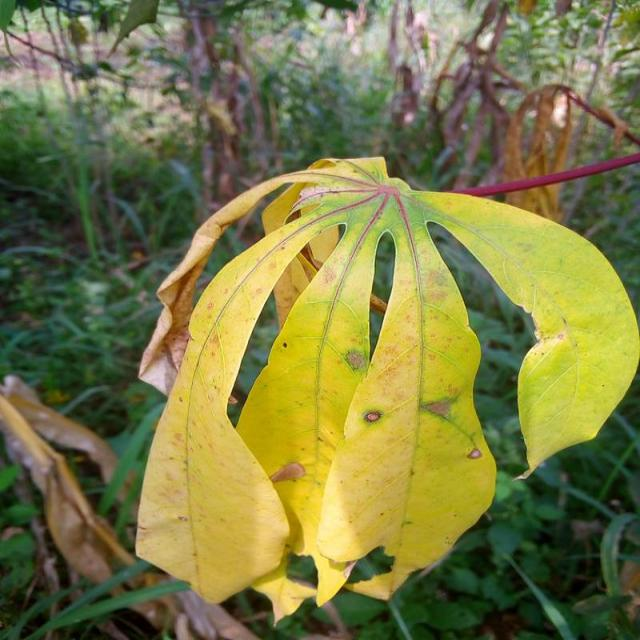cassava leaf: (133, 154, 638, 626)
